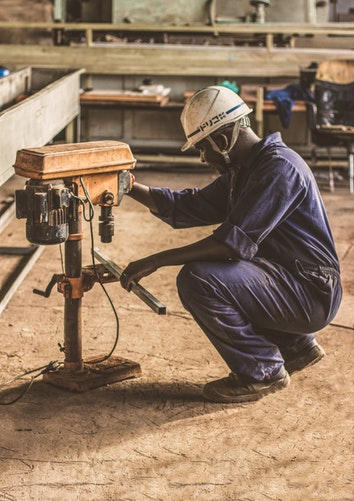helmet: (169, 78, 254, 142)
